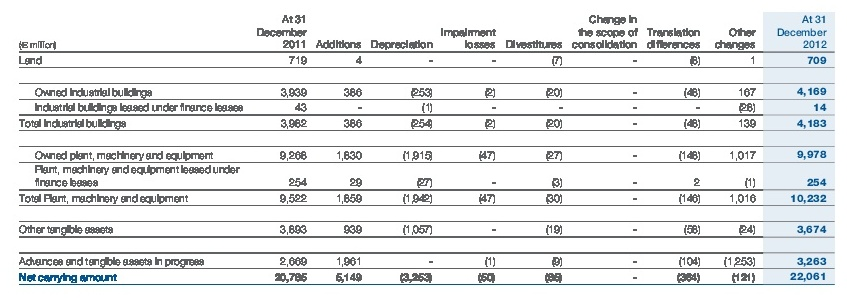table: (0, 0, 847, 298)
